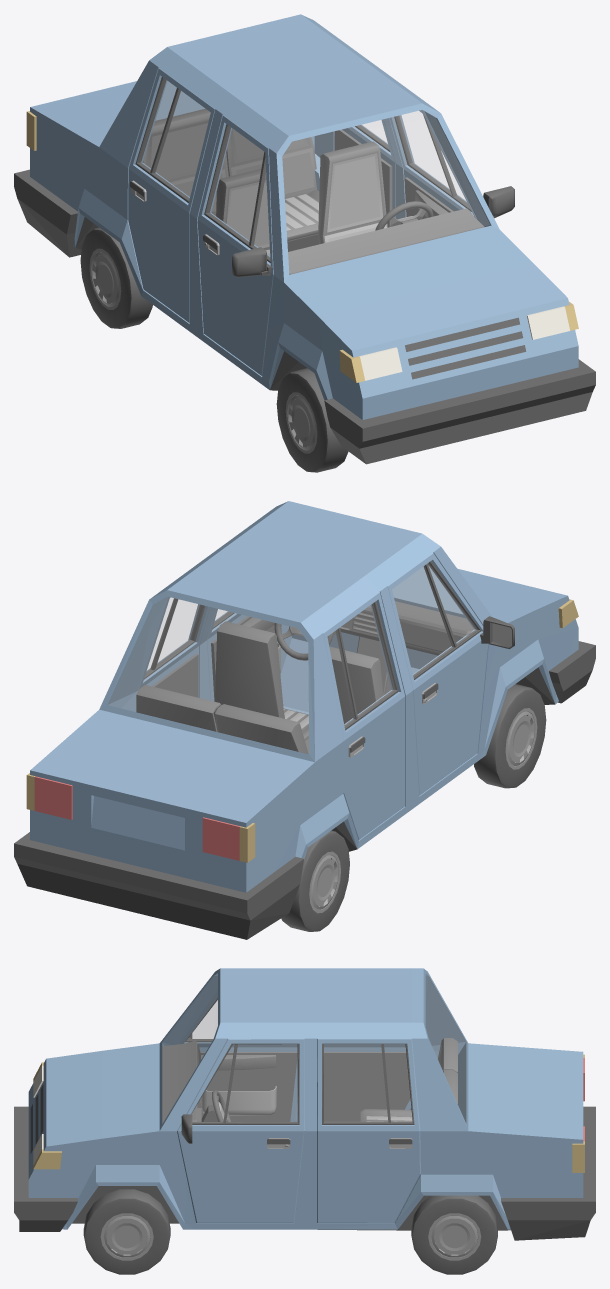
3 renders of one model, top to bottom at view 1: azimuth 30°, elevation 25°; view 2: azimuth 150°, elevation 25°; view 3: azimuth 270°, elevation 25°, orthographic. The views are drawn at different scales.
Parts seen in each view (by area): view 1: Chassis_Chassis_0, Windows_Windows_0, Chassis_Bumpers_0, Interior_InteriorPanel_0, FR_Door_Chassis_0, RR_Door_Chassis_0, Interior_Handler_0, RR_Door_Windows_0, FR_Door_Windows_0, FR_Wheel_Tire_0, RR_Wheel_Tire_0, FR_Door_Bumpers_0 (+11 smaller); view 2: Chassis_Chassis_0, Windows_Windows_0, Interior_InteriorPanel_0 (×2), Chassis_Bumpers_0, FR_Door_Chassis_0, RR_Door_Chassis_0, FR_Door_Windows_0, RR_Door_Windows_0, FR_Wheel_Tire_0, RR_Wheel_Tire_0, Brake_Lights_Brake_lights_0, FR_Door_Bumpers_0 (+10 smaller); view 3: Chassis_Chassis_0, FL_Door_Chassis_0, RL_Door_Chassis_0, Chassis_Bumpers_0, Windows_Windows_0, FL_Door_Windows_0, RL_Door_Windows_0, RR_Door_InteriorPanel_0, FL_Wheel_Tire_0, RL_Wheel_Tire_0, FR_Door_InteriorPanel_0, Interior_InteriorPanel_0 (+9 smaller).
Part boxes in pixels (x1,y1,x2,y2): Chassis_Chassis_0: [30, 14, 578, 419]; Windows_Windows_0: [156, 82, 489, 273]; Chassis_Bumpers_0: [14, 169, 595, 464]; Interior_InteriorPanel_0: [142, 108, 484, 274]; FR_Door_Chassis_0: [197, 115, 273, 375]; RR_Door_Chassis_0: [128, 68, 215, 322]; Interior_Handler_0: [226, 153, 386, 255]; RR_Door_Windows_0: [139, 80, 209, 198]; FR_Door_Windows_0: [208, 127, 269, 258]; FR_Wheel_Tire_0: [276, 368, 348, 472]; RR_Wheel_Tire_0: [80, 227, 152, 328]; FR_Door_Bumpers_0: [203, 124, 271, 277]; Chassis_Chassis_0: [30, 501, 578, 892]; Windows_Windows_0: [108, 568, 461, 753]; Interior_InteriorPanel_0 (×2): [136, 601, 473, 754]; Chassis_Bumpers_0: [14, 641, 595, 939]; FR_Door_Chassis_0: [387, 553, 488, 795]; RR_Door_Chassis_0: [323, 592, 405, 839]; FR_Door_Windows_0: [392, 563, 477, 675]; RR_Door_Windows_0: [328, 604, 395, 726]; FR_Wheel_Tire_0: [474, 684, 546, 788]; RR_Wheel_Tire_0: [281, 830, 349, 931]; Brake_Lights_Brake_lights_0: [34, 776, 239, 860]; FR_Door_Bumpers_0: [413, 561, 514, 701]; Chassis_Chassis_0: [28, 968, 583, 1229]; FL_Door_Chassis_0: [177, 1038, 304, 1223]; RL_Door_Chassis_0: [317, 1038, 420, 1223]; Chassis_Bumpers_0: [14, 1085, 595, 1240]; Windows_Windows_0: [164, 974, 465, 1120]; FL_Door_Windows_0: [192, 1044, 297, 1122]; RL_Door_Windows_0: [324, 1044, 411, 1121]; RR_Door_InteriorPanel_0: [324, 1052, 410, 1121]; FL_Wheel_Tire_0: [83, 1189, 170, 1274]; RL_Wheel_Tire_0: [411, 1195, 497, 1274]; FR_Door_InteriorPanel_0: [200, 1052, 297, 1121]; Interior_InteriorPanel_0: [162, 1038, 457, 1123].
Bounding box in the file's own units: 5.2 × 4.99 × 11.18.
